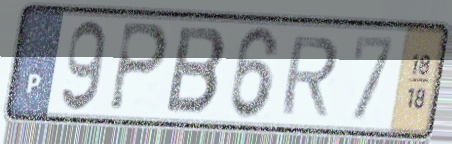6: (227, 23, 281, 124)
7: (348, 33, 396, 125)
9: (58, 17, 108, 114)
B: (162, 22, 229, 118)
P: (106, 19, 172, 116)
R: (277, 34, 341, 119)
